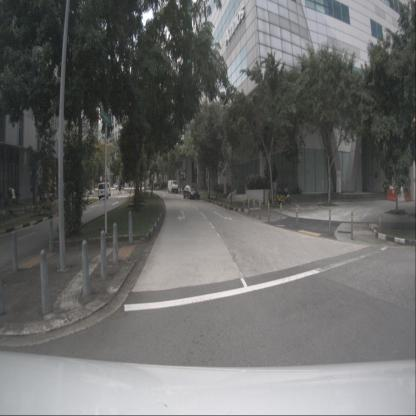barrier: (396, 189, 406, 202), (387, 188, 396, 202), (405, 188, 411, 202)
